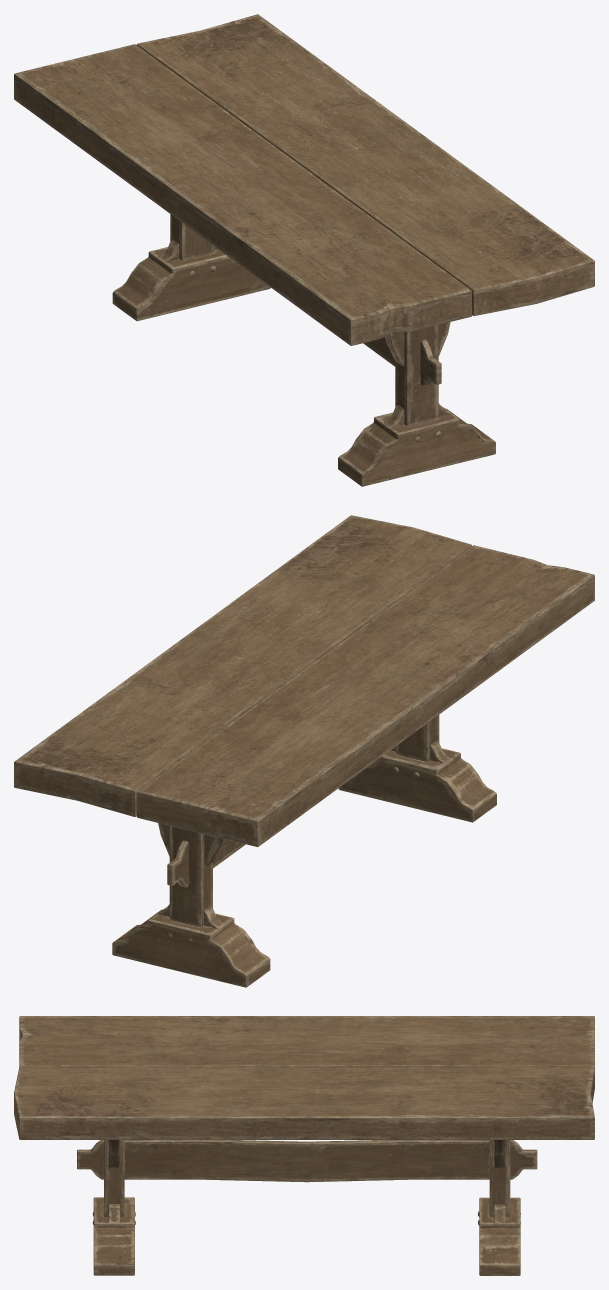
File: medieval_table.glb
3 views of the same model, one above another, from view 1: azimuth 30°, elevation 25°; view 2: azimuth 150°, elevation 25°; view 3: azimuth 270°, elevation 25° (orthographic). The views are drawn at different scales.
Parts seen in each view (by area): view 1: EA_PrimitiveTable; view 2: EA_PrimitiveTable; view 3: EA_PrimitiveTable.
Boxes of the visible parts, x1,y1,x2,y2 form: EA_PrimitiveTable: (14,14,594,486); EA_PrimitiveTable: (14,515,594,987); EA_PrimitiveTable: (14,1016,594,1275).
Bounding box in the file's own units: 99.47 × 82.54 × 240.
Materials: 1 (1 with a texture image).
